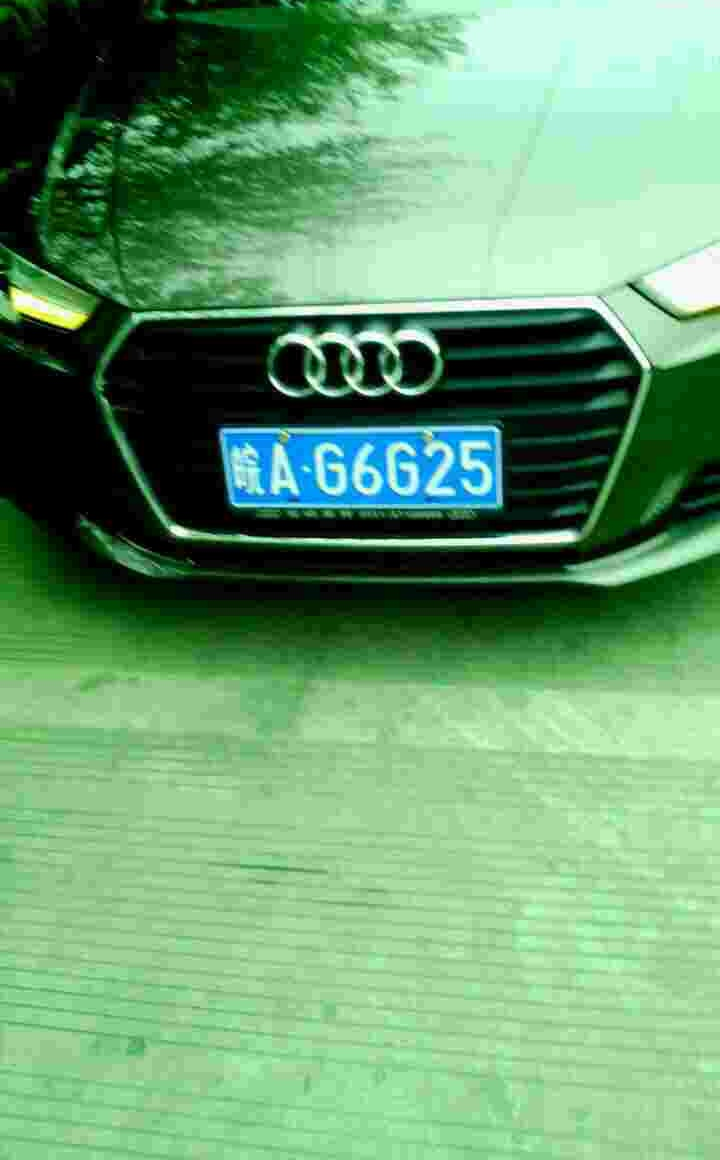license_plate: (230, 424, 500, 512)
